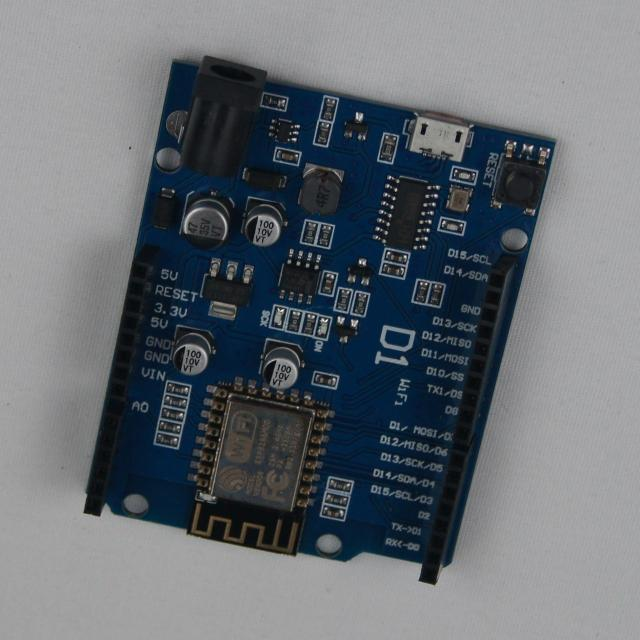Arduino Uno WiFi Shield: (86, 57, 555, 584)
